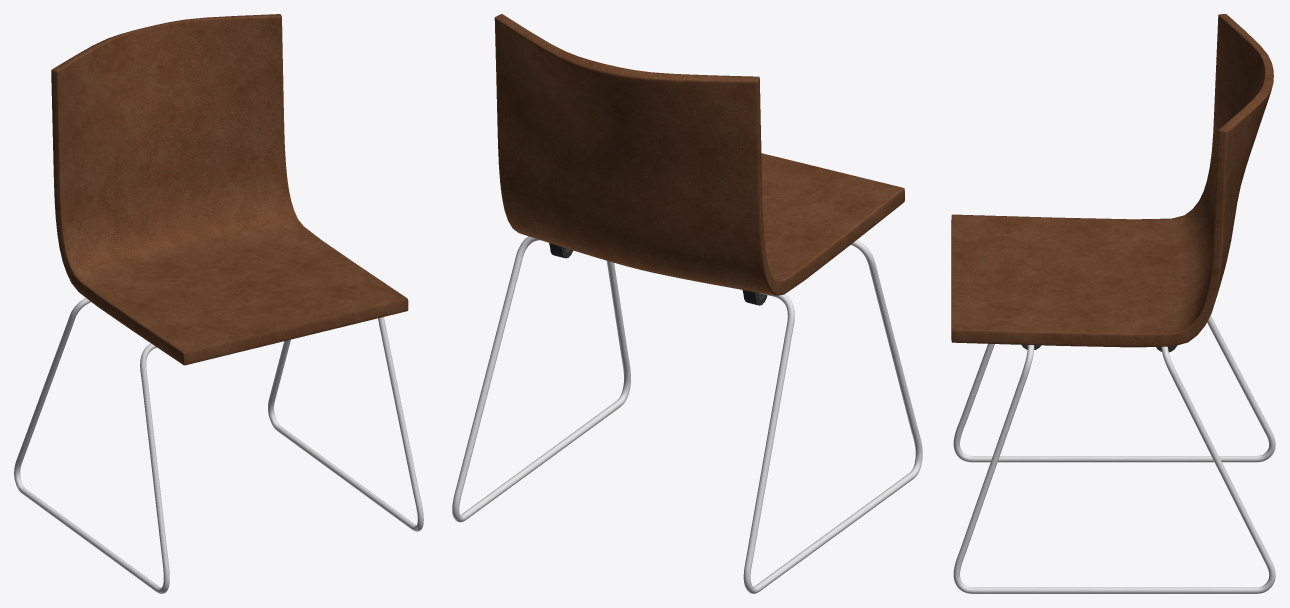
File: sedia-arco.glb
3 renders of one model, left to right at view 1: azimuth 30°, elevation 25°; view 2: azimuth 150°, elevation 25°; view 3: azimuth 270°, elevation 25°, orthographic. The views are drawn at different scales.
Visible parts, largest first — view 1: Leather_Chair_0; view 2: Leather_Chair_0; view 3: Leather_Chair_0.
Part boxes in pixels (left/top/right/bottom): Leather_Chair_0: left=14, top=14, right=423, bottom=593; Leather_Chair_0: left=452, top=14, right=922, bottom=593; Leather_Chair_0: left=951, top=14, right=1275, bottom=593.
Bounding box in the file's own units: 0.48 × 0.7599 × 0.4898.
Materials: 1 (1 with a texture image).
